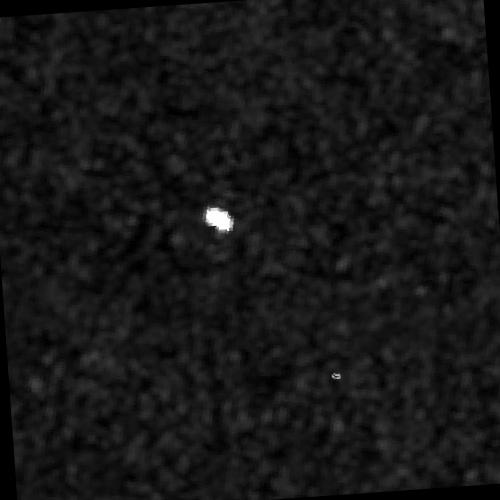ship: (204, 204, 233, 233)
